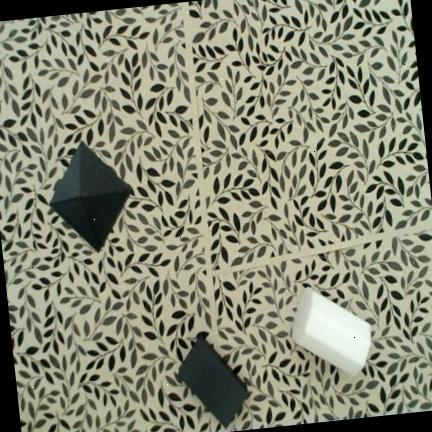Paralelepipedo: (179, 335, 249, 426)
Piramide: (49, 141, 131, 250)
Prisma_hexagonal: (291, 286, 371, 377)
